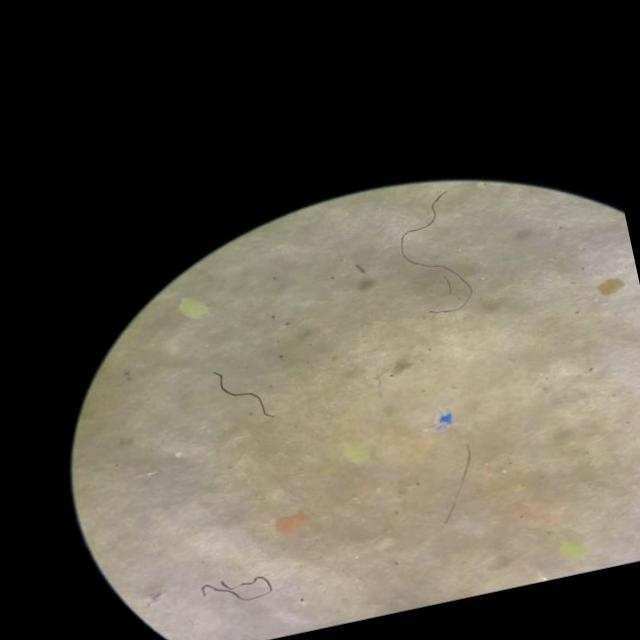fiber: (399, 191, 472, 313), (212, 371, 272, 417), (443, 445, 470, 523), (199, 575, 273, 600)
film: (432, 422, 452, 430)
fragment: (274, 511, 308, 533), (178, 298, 207, 318), (597, 276, 623, 296), (343, 445, 369, 464), (560, 540, 586, 559)
pellet: (174, 452, 181, 456)
